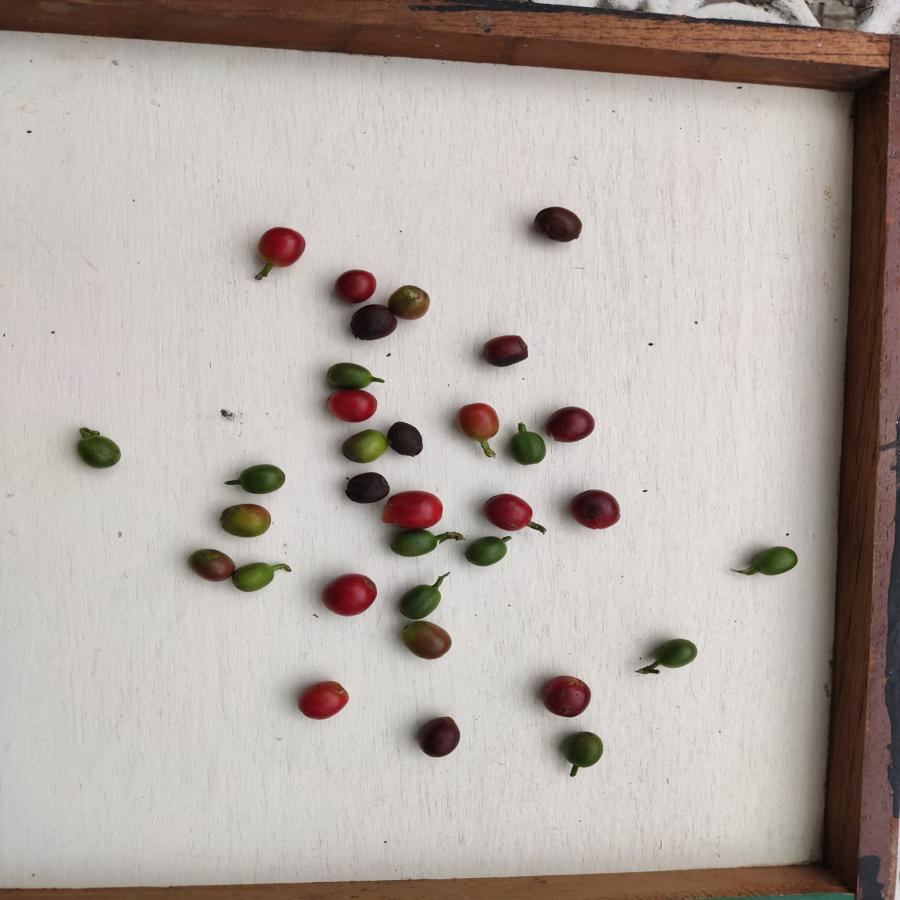Inmaduro: (76, 433, 125, 473), (238, 461, 290, 496), (750, 546, 801, 581), (649, 636, 698, 671), (398, 582, 444, 619), (563, 732, 607, 770), (386, 531, 442, 558), (325, 361, 375, 391), (506, 428, 547, 464), (465, 537, 509, 568)
Maduro: (320, 572, 377, 618), (295, 679, 350, 724), (384, 489, 441, 532), (258, 225, 310, 270), (328, 389, 380, 421), (334, 267, 376, 303)
Pinton: (395, 620, 455, 663), (221, 499, 273, 542), (456, 401, 503, 443), (188, 546, 235, 584), (342, 428, 389, 464), (388, 284, 432, 322), (231, 558, 277, 593)
Sobremaduro: (541, 402, 595, 446), (533, 203, 590, 244), (541, 673, 593, 717), (567, 489, 622, 530), (480, 332, 530, 372), (415, 715, 460, 758), (349, 302, 390, 346), (386, 419, 429, 459), (343, 473, 388, 503)
